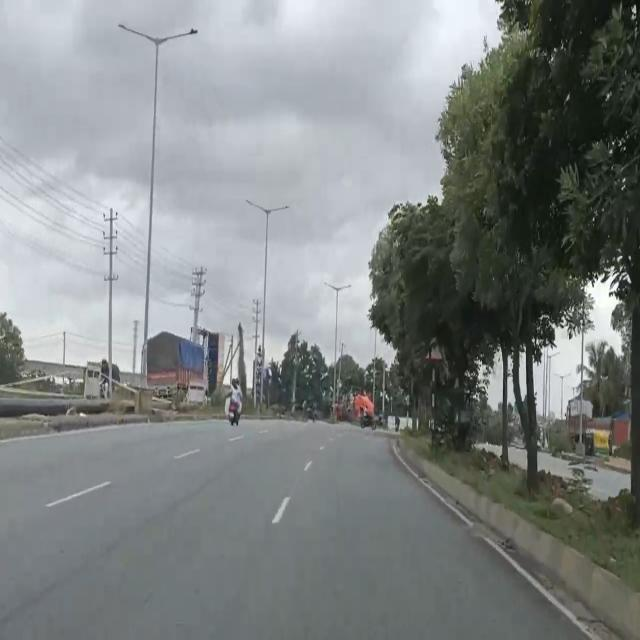bien_cam: (421, 332, 446, 364)
